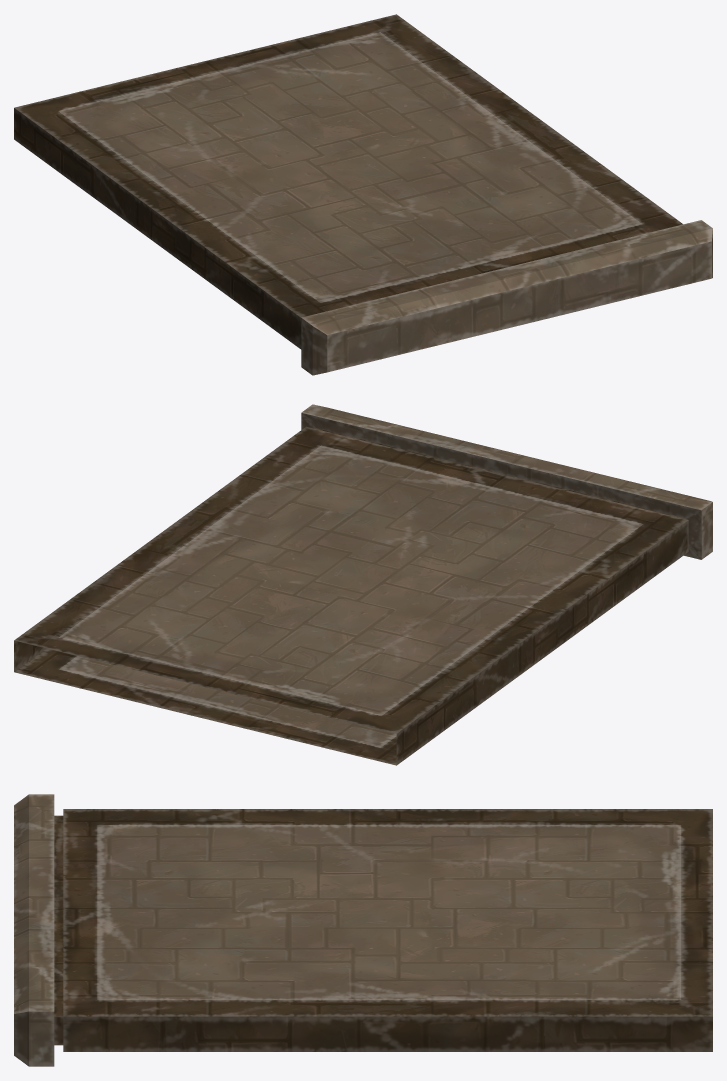
File: Plataforma.fbx
3 renders of one model, top to bottom at view 1: azimuth 30°, elevation 25°; view 2: azimuth 150°, elevation 25°; view 3: azimuth 270°, elevation 25°, orthographic. The views are drawn at different scales.
Parts seen in each view (by area): view 1: plataforma low.003; view 2: plataforma low.003; view 3: plataforma low.003.
Part boxes in pixels (x1=…): plataforma low.003: x1=14, y1=14, x2=712, y2=375; plataforma low.003: x1=14, y1=404, x2=712, y2=765; plataforma low.003: x1=14, y1=794, x2=712, y2=1066.
Size of the model in its own units: 138 by 16.33 by 187.
1 material, 1 textured.
